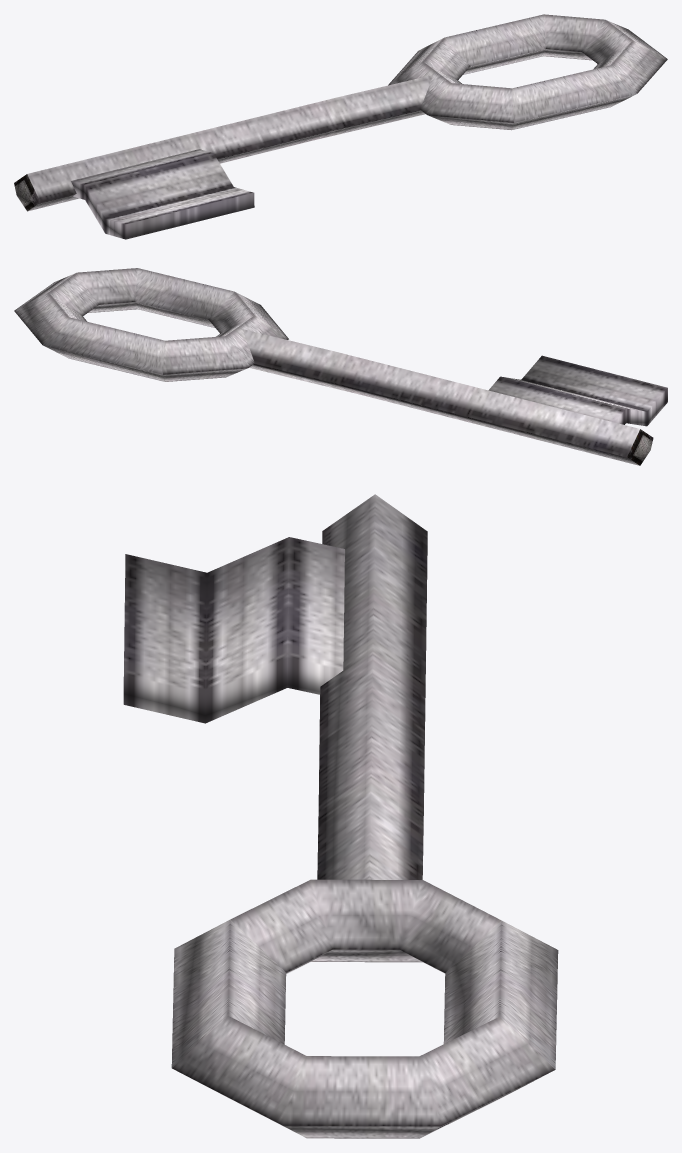
The model's file is KM_SQ311_KEY_03.glb.
3 views of the same model, one above another, from view 1: azimuth 30°, elevation 25°; view 2: azimuth 150°, elevation 25°; view 3: azimuth 270°, elevation 25° (orthographic). The views are drawn at different scales.
Parts seen in each view (by area): view 1: Mesh; view 2: Mesh; view 3: Mesh.
Part boxes in pixels (bbox=[...]): Mesh: bbox=[14, 14, 667, 239]; Mesh: bbox=[14, 268, 667, 465]; Mesh: bbox=[123, 494, 558, 1138].
Size of the model in its own units: 0.2451 by 0.016 by 0.0744.
1 material, 1 textured.
